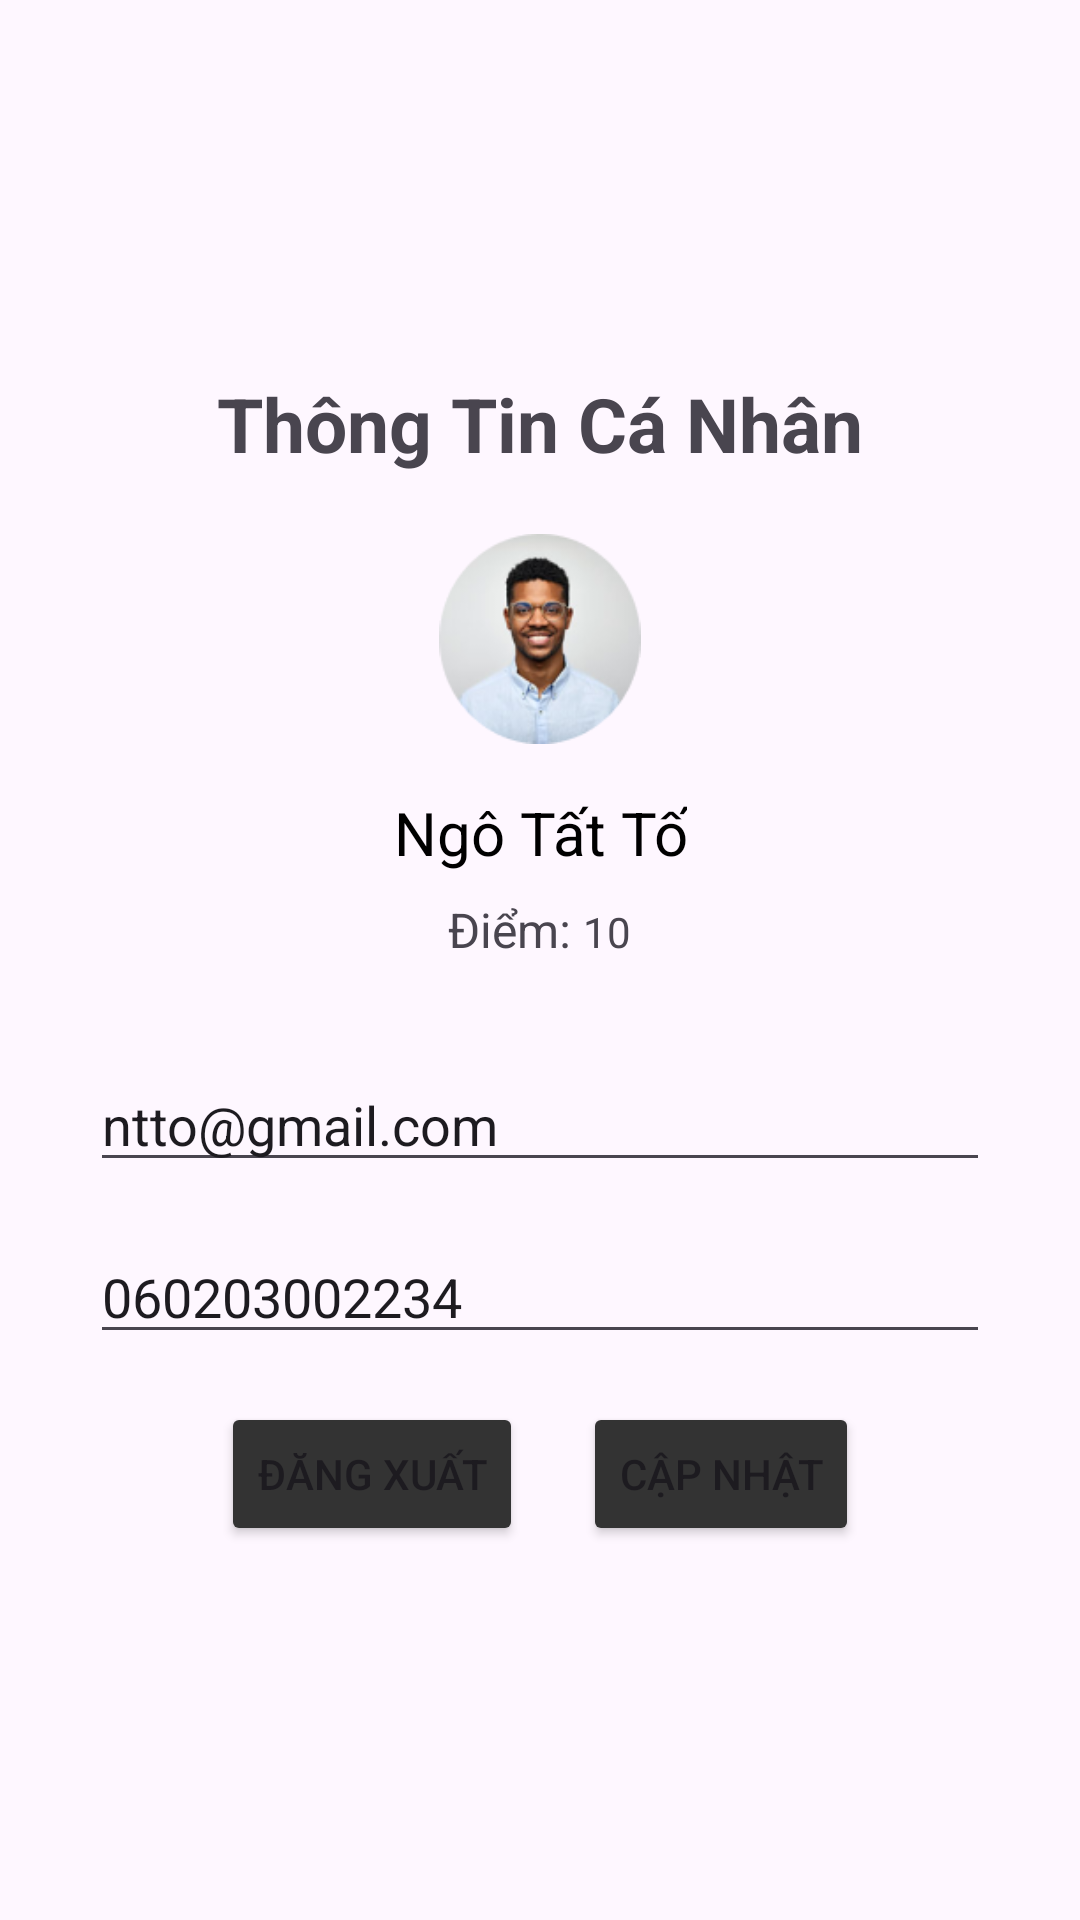

Screen size 1080px x 1920px. Icon name, then its center in pixels as (x,y):
Hình ảnh cá nhân: (540,639)
